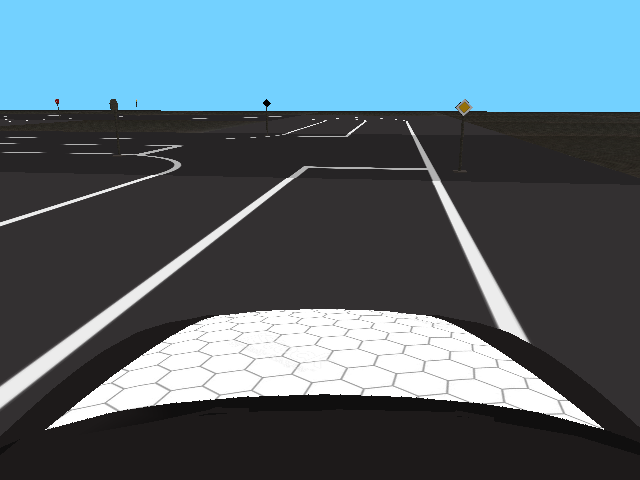yellow_light: (455, 98, 473, 116)
